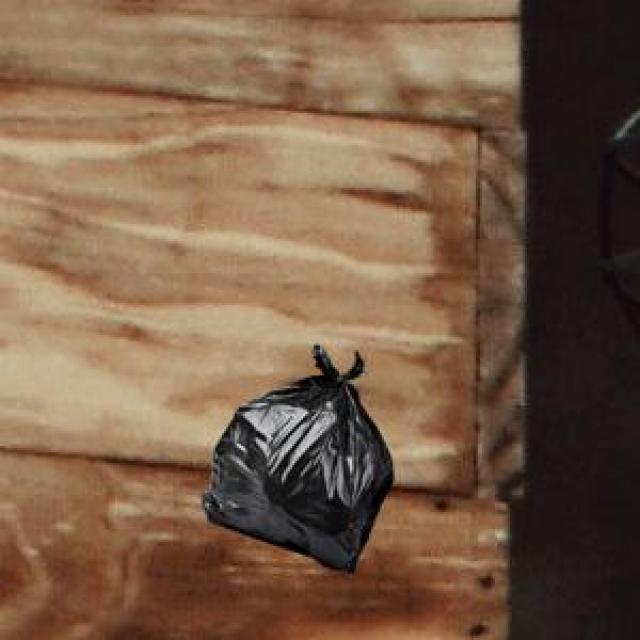Vinyl: (204, 345, 392, 571)
